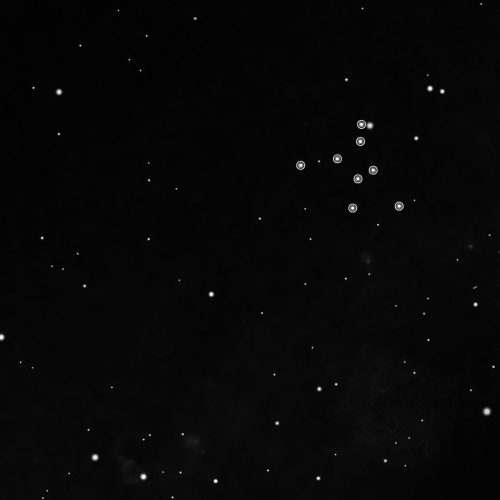hercules: (292, 114, 407, 218)
